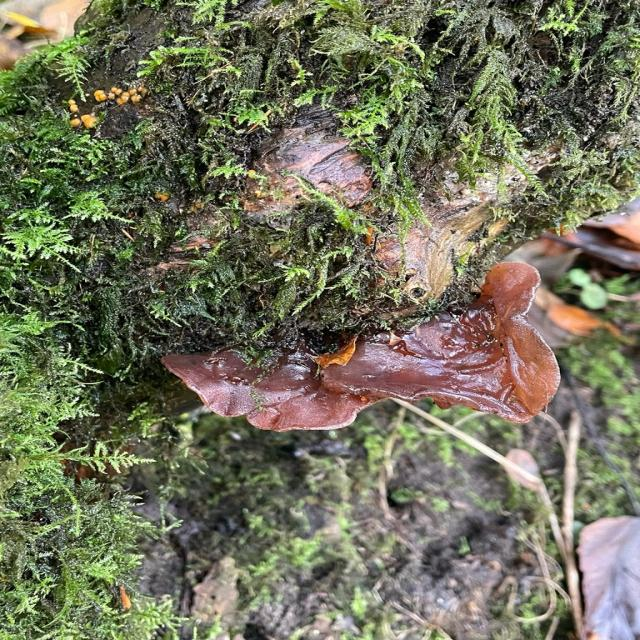Matang: (314, 254, 567, 427), (157, 344, 397, 434)
